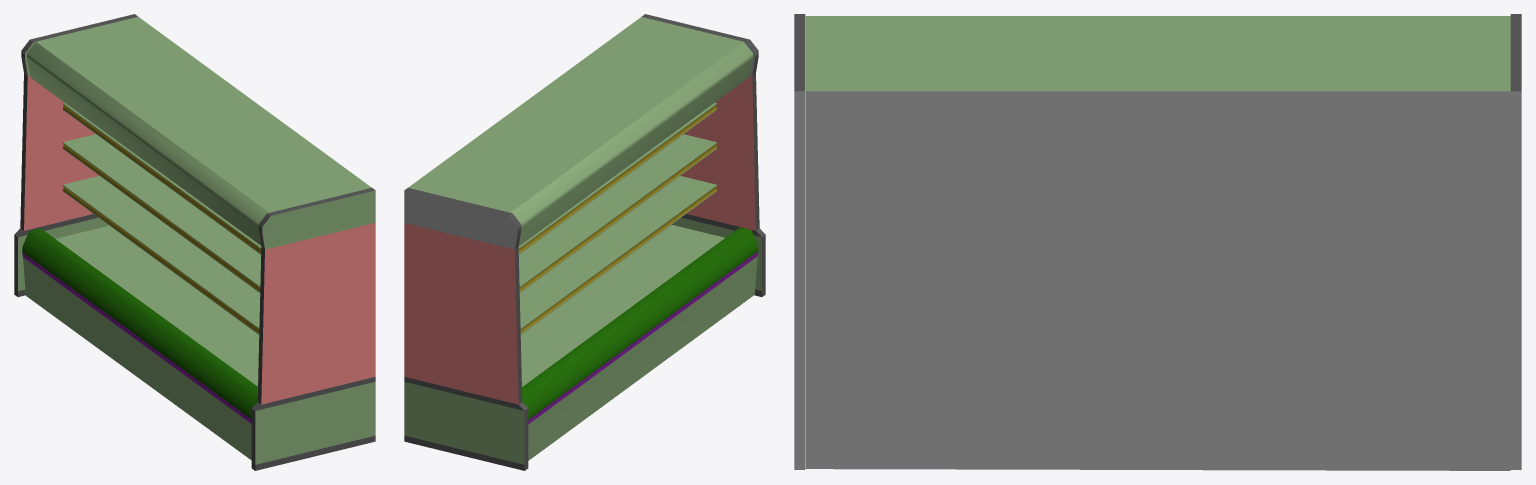
The model's file is open-fridge-01_1.fbx.
3 views of the same model, side by side, from view 1: azimuth 30°, elevation 25°; view 2: azimuth 150°, elevation 25°; view 3: azimuth 270°, elevation 25° (orthographic). The views are drawn at different scales.
Parts seen in each view (by area): view 1: pCube30, pCube32, pCube34, pasted__pCube11, pasted__pCube14, pasted__pCube15; view 2: pCube30, pCube34, pCube32, pasted__pCube11, pasted__pCube14, pasted__pCube15; view 3: pCube30, pCube32, pCube34.
Boxes of the visible parts, x1=… form: pCube30: x1=22, y1=16, x2=371, y2=460; pCube32: x1=251, y1=188, x2=375, y2=470; pCube34: x1=14, y1=14, x2=137, y2=296; pasted__pCube11: x1=62, y1=175, x2=260, y2=334; pasted__pCube14: x1=62, y1=134, x2=261, y2=292; pasted__pCube15: x1=62, y1=102, x2=261, y2=254; pCube30: x1=408, y1=17, x2=758, y2=460; pCube34: x1=404, y1=188, x2=528, y2=470; pCube32: x1=641, y1=14, x2=765, y2=296; pasted__pCube11: x1=519, y1=176, x2=716, y2=334; pasted__pCube14: x1=518, y1=134, x2=716, y2=292; pasted__pCube15: x1=518, y1=102, x2=716, y2=254; pCube30: x1=805, y1=16, x2=1510, y2=470; pCube32: x1=794, y1=14, x2=805, y2=469; pCube34: x1=1510, y1=14, x2=1521, y2=469.
Size of the model in its own units: 1.94 by 3.86 by 6.7.
